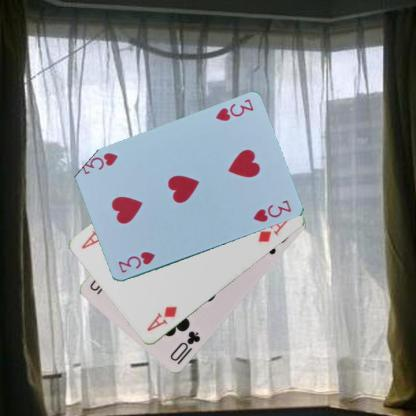10c: (167, 329, 202, 363)
3h: (212, 97, 254, 123), (115, 249, 157, 274)
Ad: (144, 304, 178, 333)
